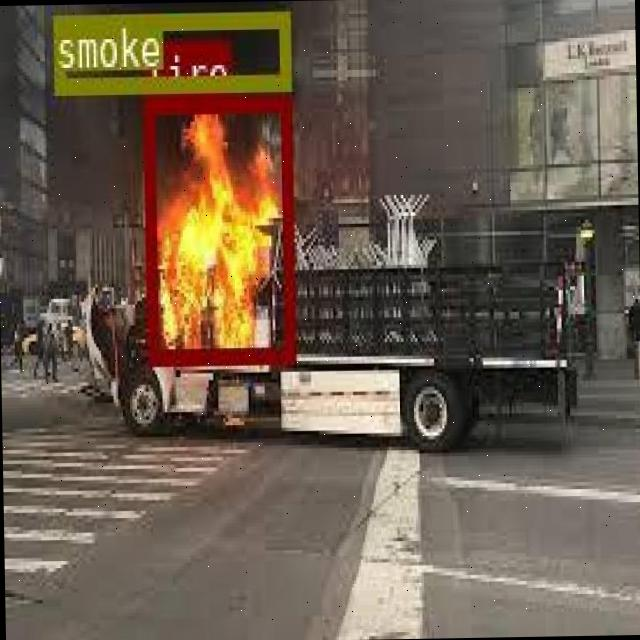fire: (142, 92, 293, 362)
smoke: (53, 10, 289, 91)
